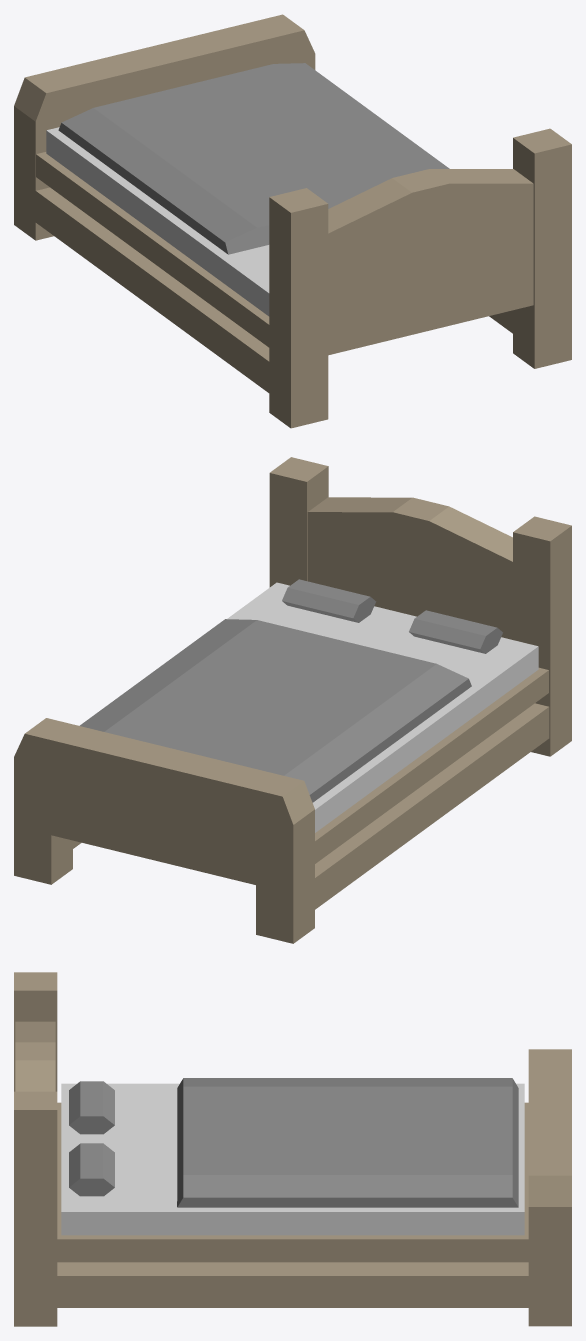
File: bedRoom_bed.fbx
The picture shows the model from 3 angles, top to bottom: view 1: azimuth 30°, elevation 25°; view 2: azimuth 150°, elevation 25°; view 3: azimuth 270°, elevation 25°; orthographic projection.
Parts seen in each view (by area): view 1: Cube.008, Cube.001, Cube.004, Cube.005, Cube, Cube.007, Cube.002; view 2: Cube.005, Cube.008, Cube.001, Cube.004, Cube.007, Cube, Cube.002, Cylinder; view 3: Cube.008, Cube.007, Cube.006, Cube.002, Cube.004, Cube.005, Cylinder, Cube.001.
Boxes of the visible parts, x1=… form: Cube.008: x1=58, y1=63, x2=449, y2=254; Cube.001: x1=328, y1=169, x2=533, y2=355; Cube.004: x1=269, y1=128, x2=571, y2=428; Cube.005: x1=14, y1=14, x2=315, y2=240; Cube: x1=35, y1=187, x2=269, y2=392; Cube.007: x1=46, y1=127, x2=269, y2=316; Cube.002: x1=36, y1=152, x2=269, y2=347; Cube.005: x1=14, y1=718, x2=314, y2=943; Cube.008: x1=79, y1=619, x2=471, y2=802; Cube.001: x1=307, y1=497, x2=512, y2=639; Cube.004: x1=269, y1=457, x2=571, y2=756; Cube.007: x1=227, y1=582, x2=538, y2=832; Cube: x1=315, y1=703, x2=549, y2=909; Cube.002: x1=315, y1=667, x2=548, y2=863; Cylinder: x1=282, y1=579, x2=502, y2=653; Cube.008: x1=177, y1=1078, x2=518, y2=1207; Cube.007: x1=61, y1=1083, x2=524, y2=1235; Cube.006: x1=57, y1=1262, x2=528, y2=1307; Cube.002: x1=57, y1=1102, x2=528, y2=1262; Cube.004: x1=14, y1=972, x2=57, y2=1326; Cube.005: x1=528, y1=1049, x2=571, y2=1326; Cylinder: x1=69, y1=1081, x2=114, y2=1196; Cube.001: x1=15, y1=1021, x2=55, y2=1091.
Size of the model in its own units: 145 by 106 by 248.
